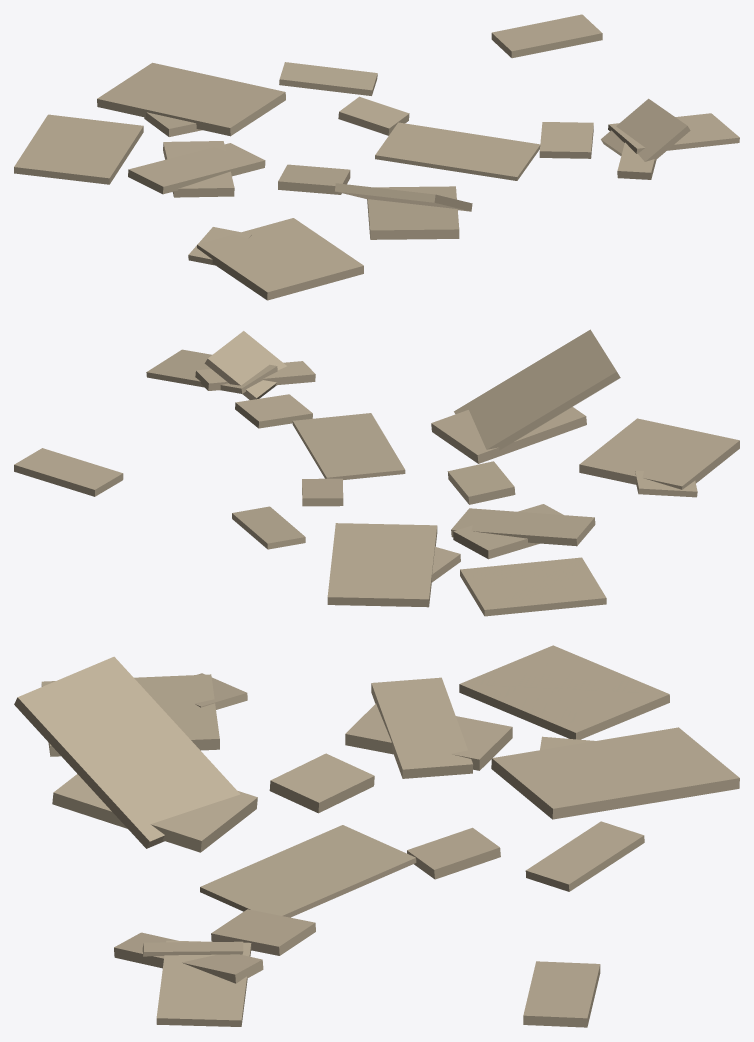
File: fallen-plaster.glb
3 renders of one model, top to bottom at view 1: azimuth 30°, elevation 25°; view 2: azimuth 150°, elevation 25°; view 3: azimuth 270°, elevation 25°, orthographic. The views are drawn at different scales.
Visible parts, largest first — view 1: fallen-plaster; view 2: fallen-plaster; view 3: fallen-plaster.
Boxes of the visible parts, left/top/right/bottom form: fallen-plaster: left=14, top=14, right=739, bottom=300; fallen-plaster: left=14, top=329, right=739, bottom=616; fallen-plaster: left=14, top=645, right=739, bottom=1027.
Bounding box in the file's own units: 1.84 × 0.2244 × 1.51.
